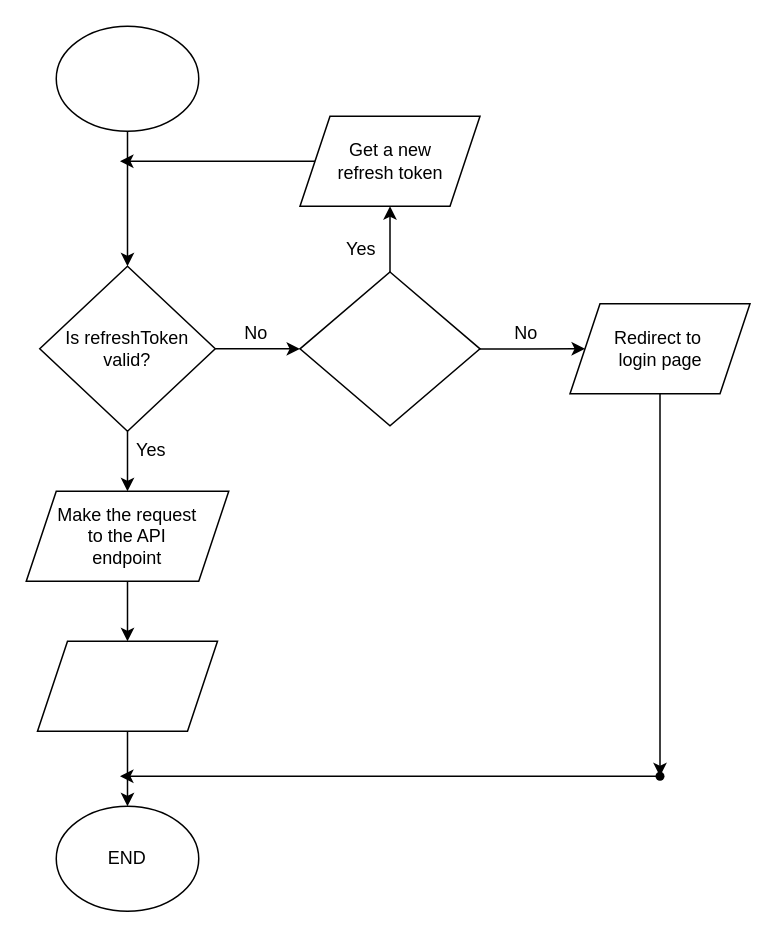
The diagram is 777 pixels wide and 938 high, and some of its shapes have lost their labels. Here are the shapes that lost their labels. From the top down, the centre of each, then its label:
At point 127,78: "START".
At point 389,348: "Is accessToken valid?".
At point 127,685: "Get return data/message".
